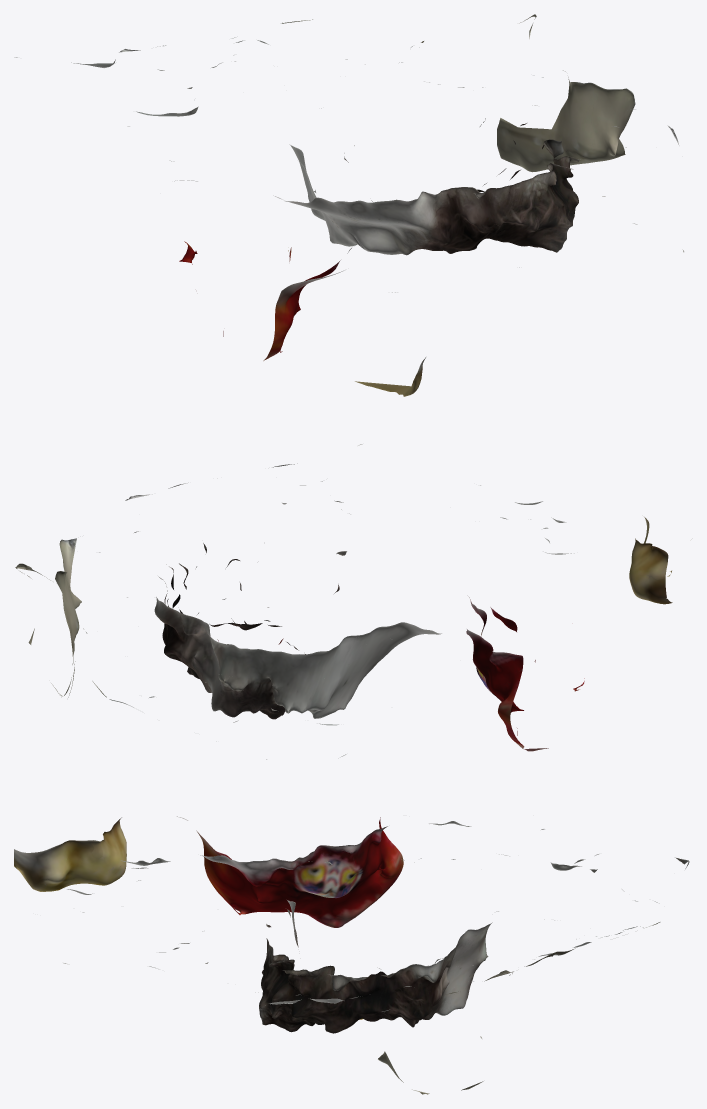
3 renders of one model, top to bottom at view 1: azimuth 30°, elevation 25°; view 2: azimuth 150°, elevation 25°; view 3: azimuth 270°, elevation 25°, orthographic. The views are drawn at different scales.
Bounding box in the file's own units: 2.88 × 0.907 × 3.99.
1 material, 1 textured.
